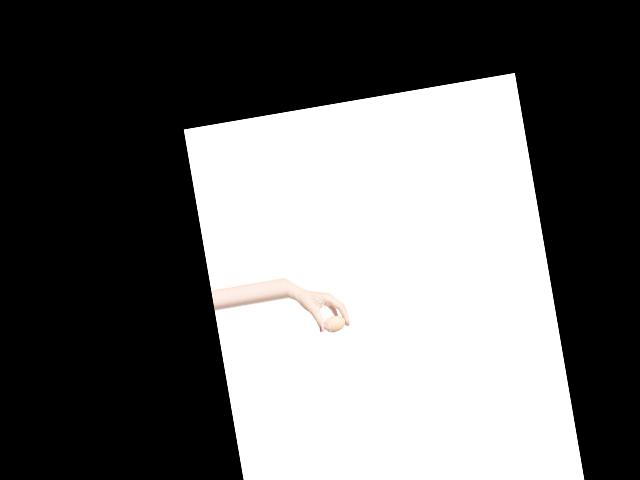egg: (322, 314, 346, 332)
